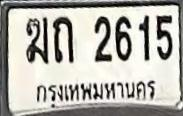1: (138, 15, 150, 61)
2: (94, 16, 111, 62)
5: (156, 14, 172, 60)
6: (114, 15, 132, 60)
A06: (24, 16, 48, 63)
A22: (54, 16, 73, 66)
BKK: (33, 77, 159, 107)
